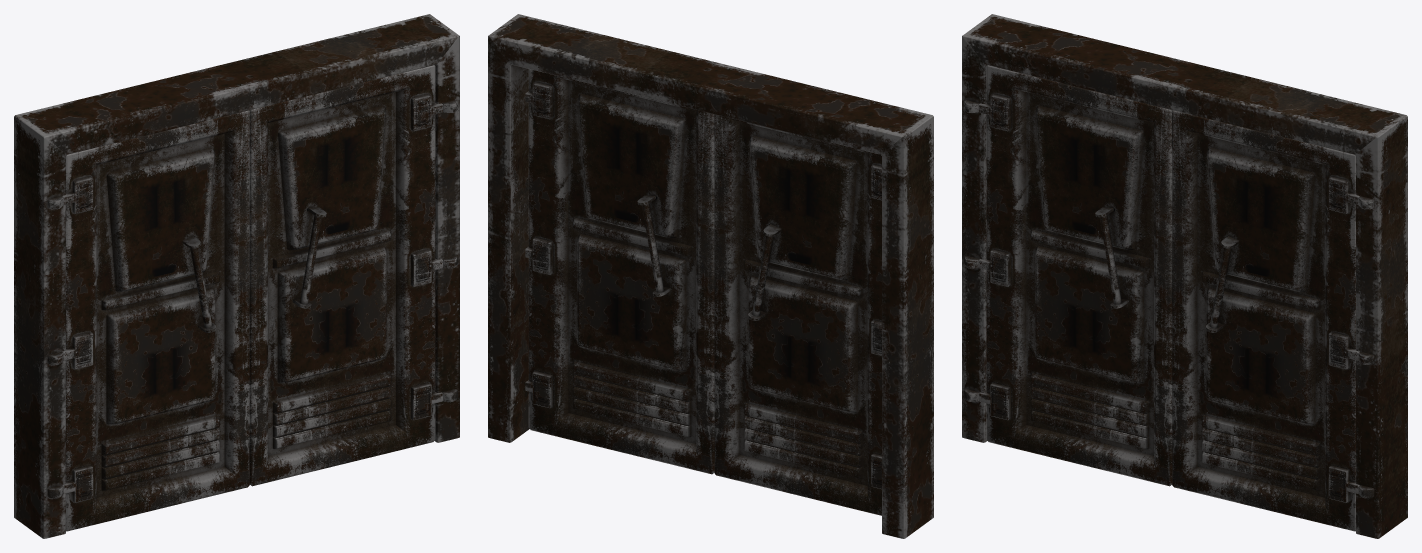
Rendered from Steel_Door_4_B.glb.
3 views of the same model, side by side, from view 1: azimuth 30°, elevation 25°; view 2: azimuth 150°, elevation 25°; view 3: azimuth 330°, elevation 25° (orthographic).
Visible parts, largest first — view 1: Door_2, Door_1, Door_Frame; view 2: Door_2, Door_1, Door_Frame; view 3: Door_1, Door_2, Door_Frame.
Part boxes in pixels (x1=…): Door_2: x1=249, y1=65, x2=443, y2=486; Door_1: x1=62, y1=110, x2=249, y2=531; Door_Frame: x1=14, y1=14, x2=459, y2=538; Door_2: x1=525, y1=69, x2=714, y2=474; Door_1: x1=714, y1=114, x2=881, y2=515; Door_Frame: x1=488, y1=14, x2=933, y2=538; Door_1: x1=978, y1=65, x2=1172, y2=486; Door_2: x1=1172, y1=110, x2=1359, y2=531; Door_Frame: x1=962, y1=14, x2=1407, y2=538.
Size of the model in its own units: 2.36 by 2.17 by 0.3796.
1 material, 1 textured.
